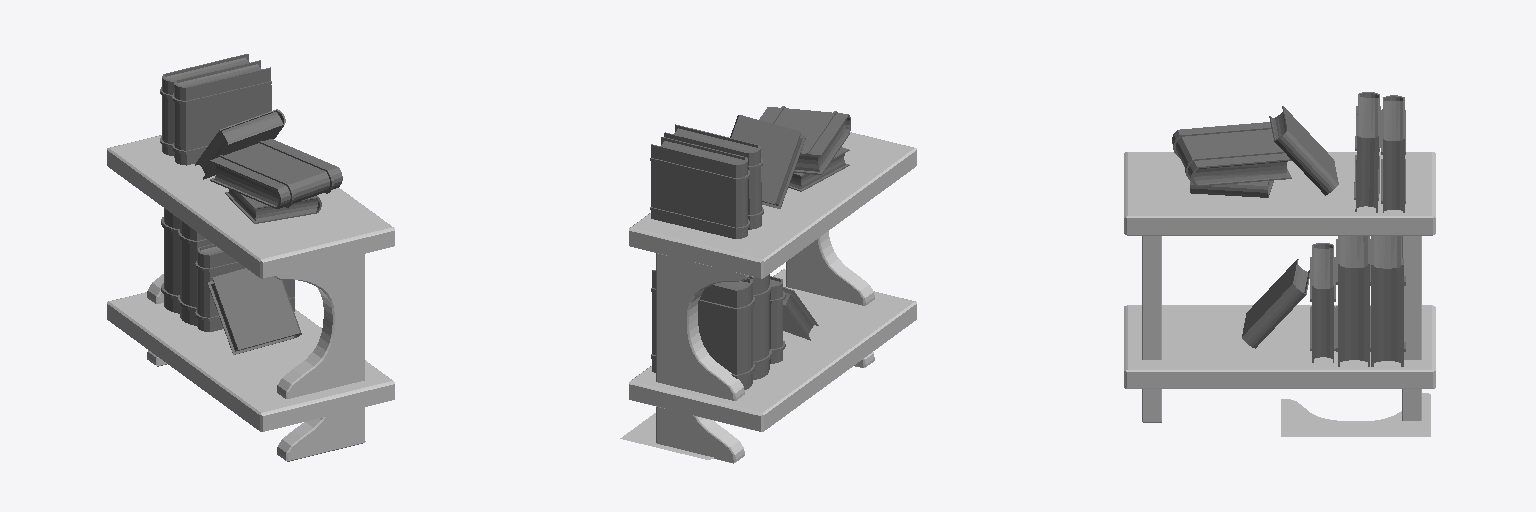
File: estanteriaLowPoly.obj
3 renders of one model, left to right at view 1: azimuth 30°, elevation 25°; view 2: azimuth 150°, elevation 25°; view 3: azimuth 270°, elevation 25°, orthographic.
Parts seen in each view (by area): view 1: Cube_Cube.002, Cube.001_Cube.002, lateral1Extrude_Plane, Libro5.001_Mesh.007, Libro5.002_Mesh.007, Libro7.002_Mesh.001, Patas_Plane.002, Libro7.001_Mesh.001, Libro5.003_Mesh.007, Libro1.001_Mesh.002, Libro5_Mesh.007, Libro1_Mesh (+1 smaller); view 2: Cube.001_Cube.002, Cube_Cube.002, Libro5_Mesh.007, lateral1Extrude.001_Plane, Libro1_Mesh, lateral1Extrude_Plane, Libro7.001_Mesh.001, Libro5.002_Mesh.007, Patas.001_Plane.002, Libro5.001_Mesh.007, Libro1.001_Mesh.002, Libro5.003_Mesh.007 (+3 smaller); view 3: Cube_Cube.002, Cube.001_Cube.002, Libro5.002_Mesh.007, Libro1.001_Mesh.002, Libro1_Mesh, Lateral1.001_Plane.001, Libro5.003_Mesh.007, Libro5.001_Mesh.007, Libro5_Mesh.007, Libro7.001_Mesh.001, Libro7.002_Mesh.001, lateral1Extrude_Plane (+4 smaller).
Boxes of the visible parts, x1,y1,x2,y2 form: Cube_Cube.002: [107, 135, 394, 278]; Cube.001_Cube.002: [107, 292, 394, 431]; lateral1Extrude_Plane: [273, 254, 364, 398]; Libro5.001_Mesh.007: [172, 60, 271, 165]; Libro5.002_Mesh.007: [210, 139, 342, 208]; Libro7.002_Mesh.001: [207, 268, 301, 354]; Patas_Plane.002: [277, 407, 365, 461]; Libro7.001_Mesh.001: [195, 109, 285, 179]; Libro5.003_Mesh.007: [195, 244, 294, 331]; Libro1.001_Mesh.002: [178, 220, 212, 325]; Libro5_Mesh.007: [160, 54, 249, 155]; Libro1_Mesh: [161, 208, 179, 313]; Cube.001_Cube.002: [629, 269, 916, 431]; Cube_Cube.002: [629, 132, 916, 278]; Libro5_Mesh.007: [650, 137, 749, 238]; lateral1Extrude.001_Plane: [656, 253, 750, 400]; Libro1_Mesh: [651, 270, 754, 389]; lateral1Extrude_Plane: [786, 231, 874, 305]; Libro7.001_Mesh.001: [730, 115, 805, 208]; Libro5.002_Mesh.007: [759, 106, 850, 174]; Patas.001_Plane.002: [656, 407, 744, 463]; Libro5.001_Mesh.007: [664, 124, 763, 229]; Libro1.001_Mesh.002: [749, 274, 771, 379]; Libro5.003_Mesh.007: [770, 276, 785, 363]; Cube_Cube.002: [1124, 152, 1435, 235]; Cube.001_Cube.002: [1124, 305, 1435, 388]; Libro5.002_Mesh.007: [1172, 122, 1291, 186]; Libro1.001_Mesh.002: [1336, 236, 1371, 366]; Libro1_Mesh: [1369, 236, 1405, 366]; Lateral1.001_Plane.001: [1281, 393, 1430, 436]; Libro5.003_Mesh.007: [1310, 243, 1335, 362]; Libro5.001_Mesh.007: [1354, 92, 1380, 212]; Libro5_Mesh.007: [1381, 95, 1405, 212]; Libro7.001_Mesh.001: [1269, 106, 1338, 195]; Libro7.002_Mesh.001: [1242, 259, 1309, 348]; lateral1Extrude_Plane: [1142, 236, 1161, 359].
Bounding box in the file's own units: 8.96 × 17.29 × 16.67.